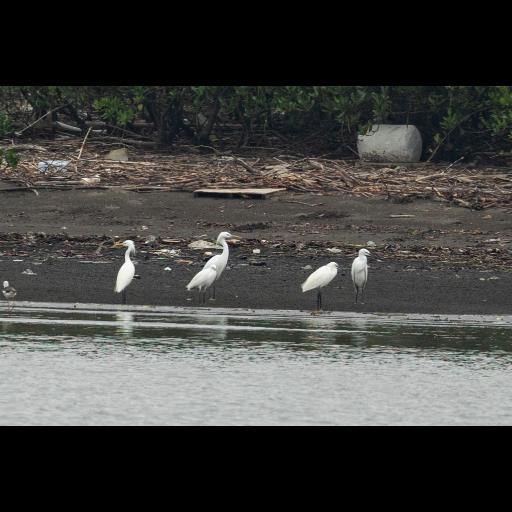chinese_egret: (202, 230, 244, 300), (110, 238, 138, 306), (188, 263, 218, 305)
